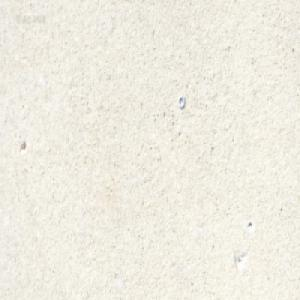Washer: (177, 94, 185, 109)
